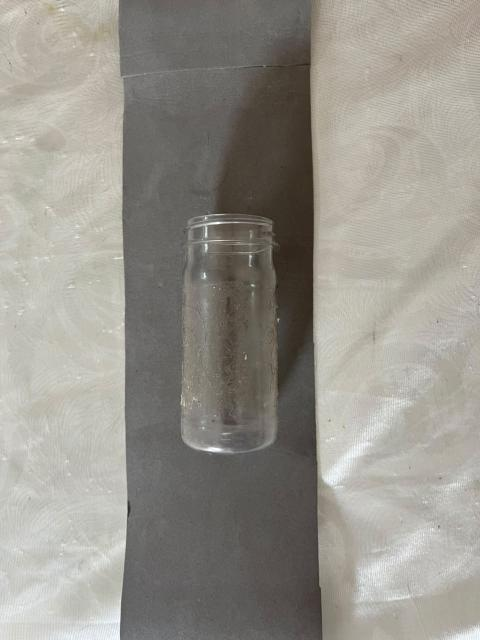PET: (148, 163, 366, 523)
